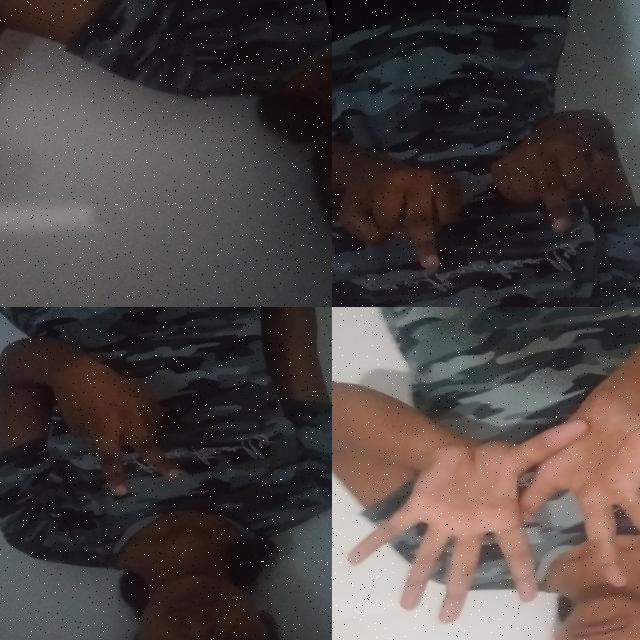Middle Finger: (332, 120, 486, 294), (469, 99, 623, 252)
Moutza: (332, 374, 624, 640), (481, 376, 640, 618)
Reversed Victory: (40, 324, 188, 511)
